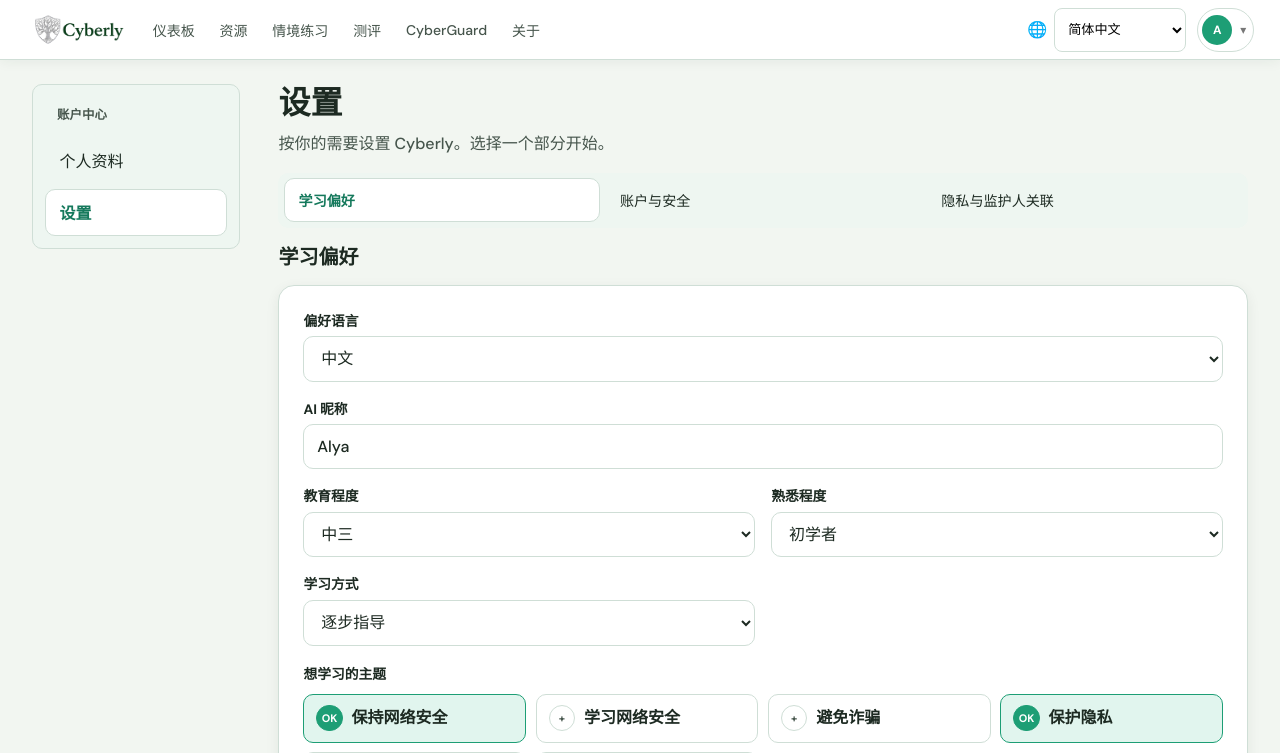
Test case: Learner Profile final visual migration › keeps an explicit runtime choice when authenticated profile persistence fails
Expected: the heading "设置" is shown, [278,82,342,124]
Select "English" in the dropdown named "选择界面语言". click: (1120, 30)
box: [1054,8,1186,52]
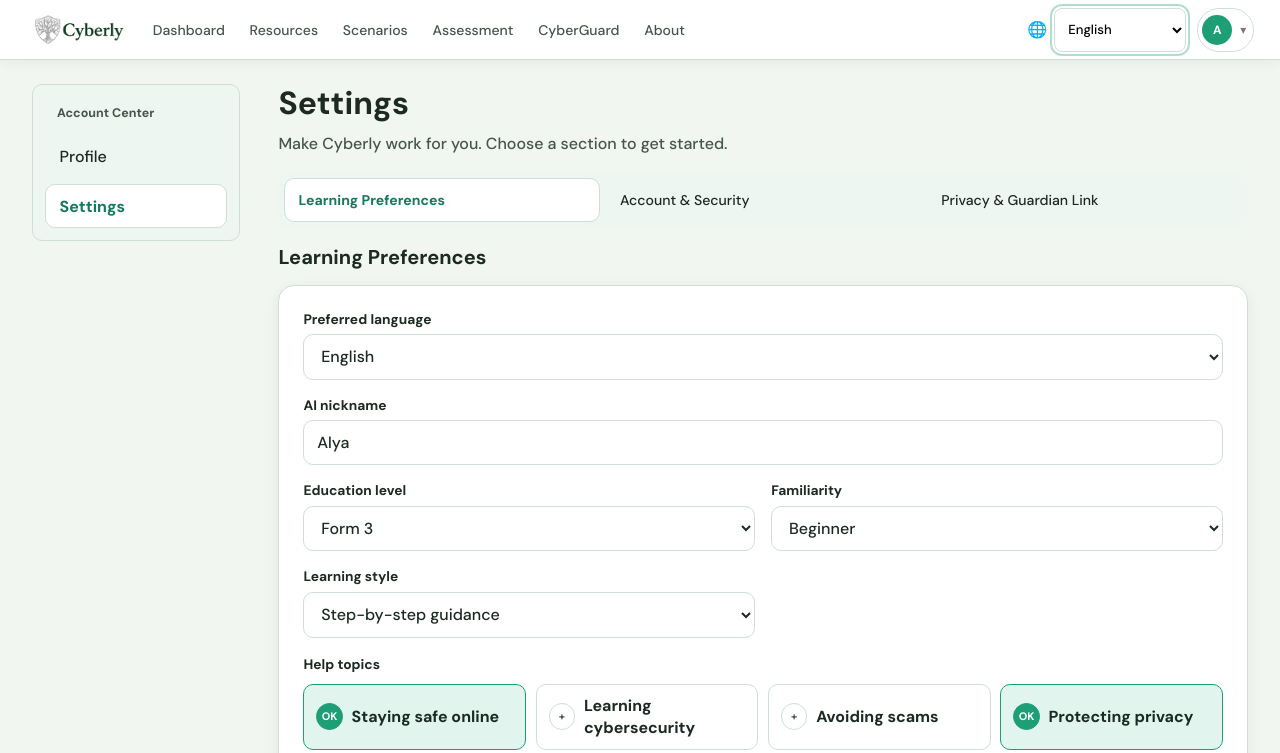
Result: the dropdown labelled "Preferred language" shows "English" at [303,334,1223,380]
